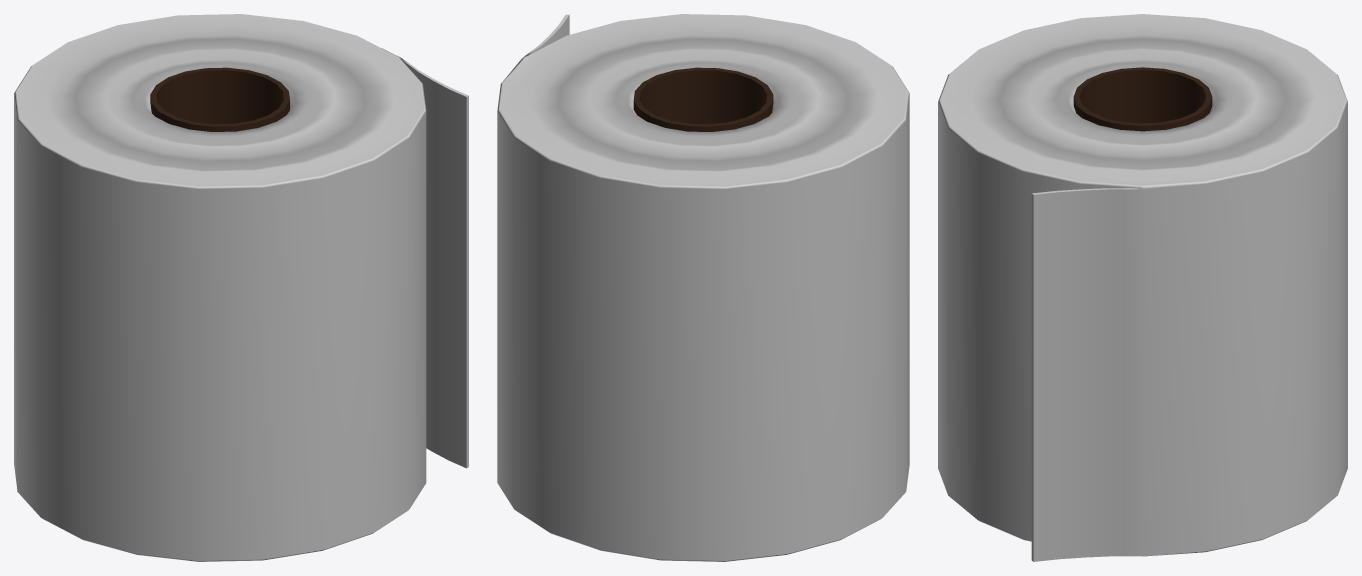
The model's file is bogroll.fbx.
The picture shows the model from 3 angles, left to right: view 1: azimuth 30°, elevation 25°; view 2: azimuth 150°, elevation 25°; view 3: azimuth 270°, elevation 25°; orthographic projection.
Parts seen in each view (by area): view 1: pCylinder2; view 2: pCylinder2; view 3: pCylinder2.
Boxes of the visible parts, x1=… form: pCylinder2: x1=14, y1=14, x2=468, y2=561; pCylinder2: x1=497, y1=14, x2=909, y2=561; pCylinder2: x1=938, y1=14, x2=1347, y2=561.
Size of the model in its own units: 20.76 by 20.31 by 20.
